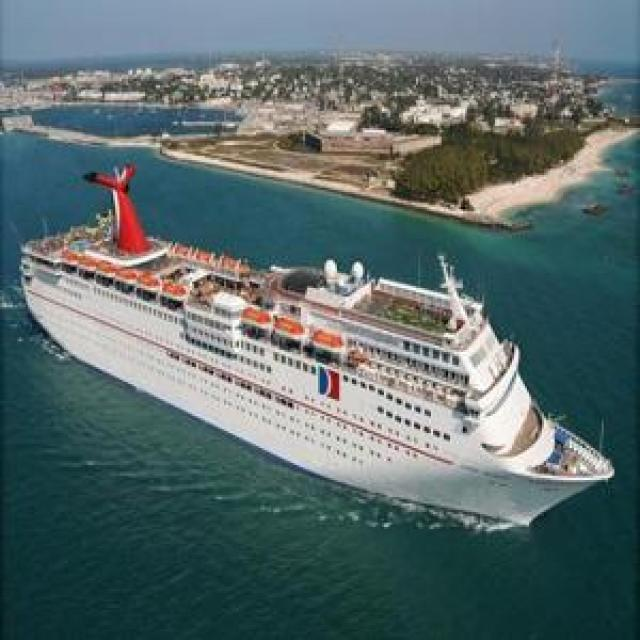passenger ship: (14, 167, 636, 556)
